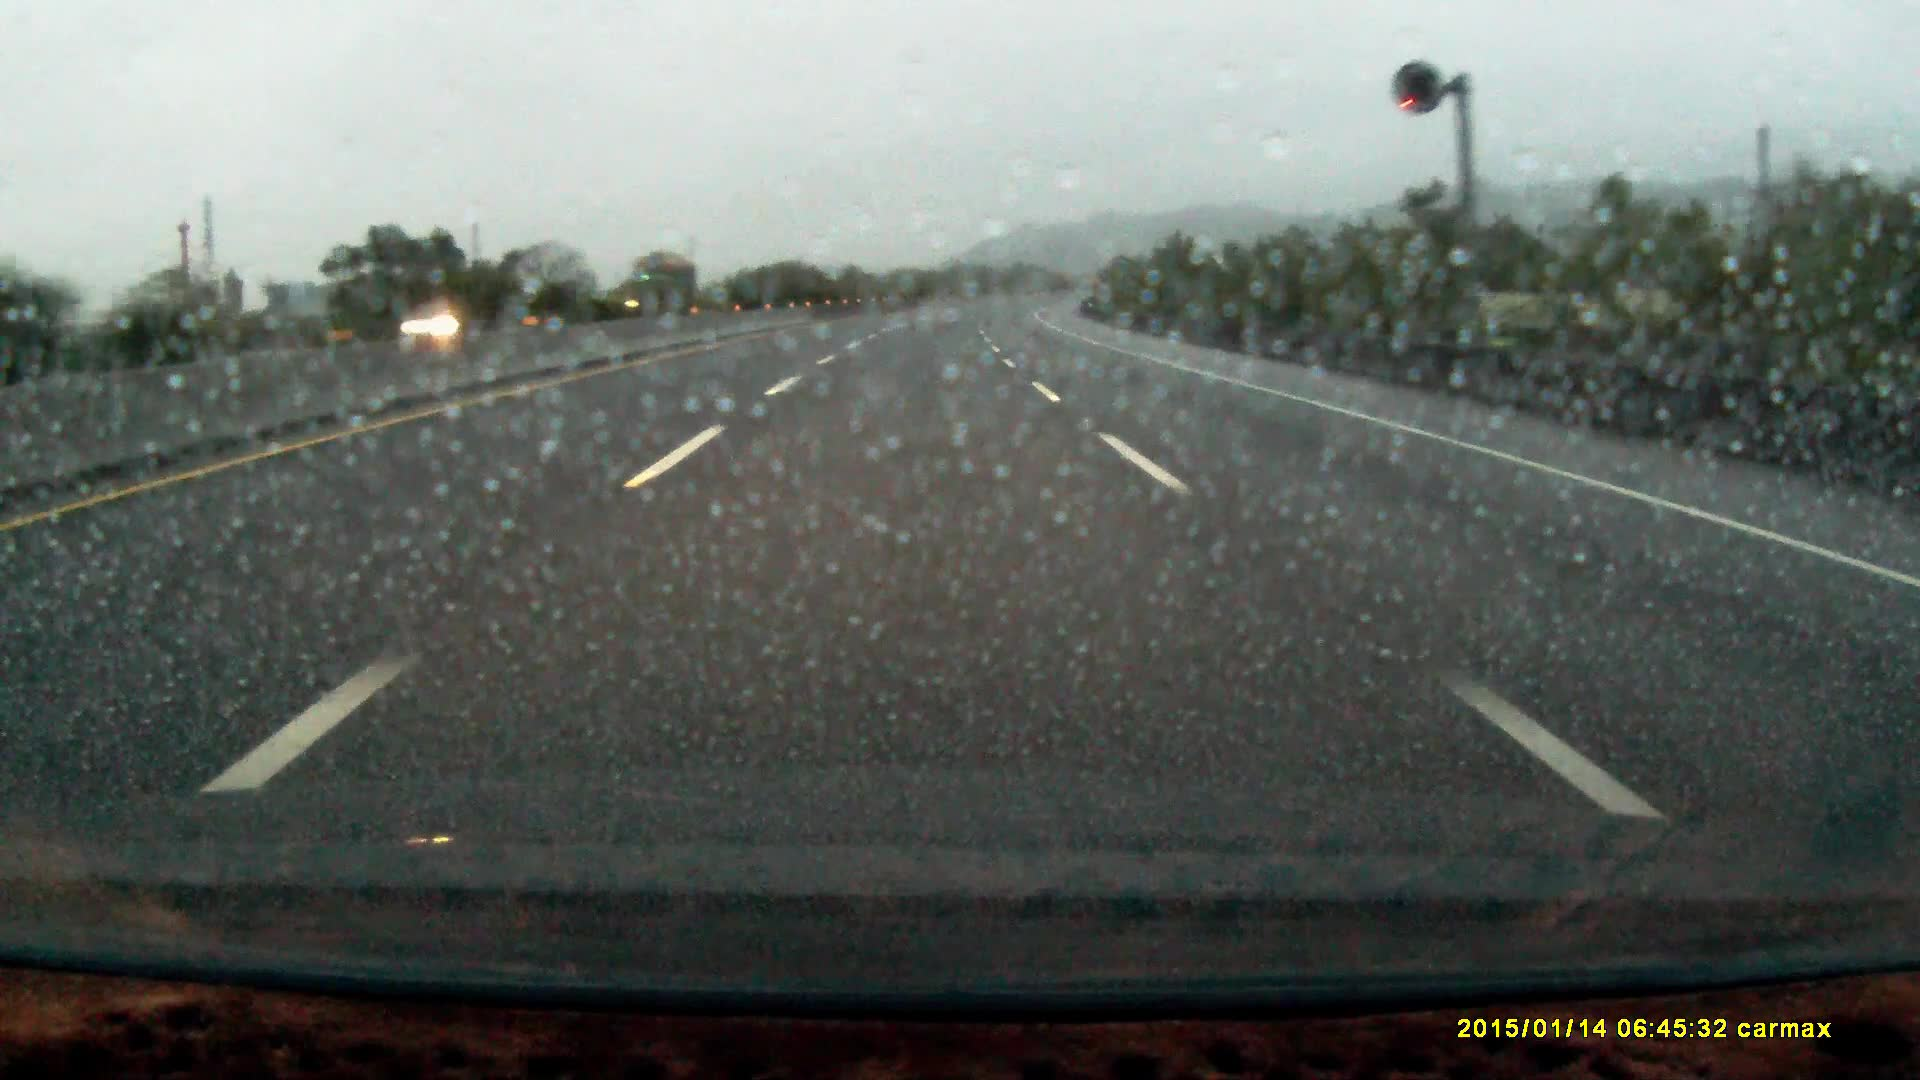vehicle: (622, 256, 702, 320), (400, 302, 498, 338)
